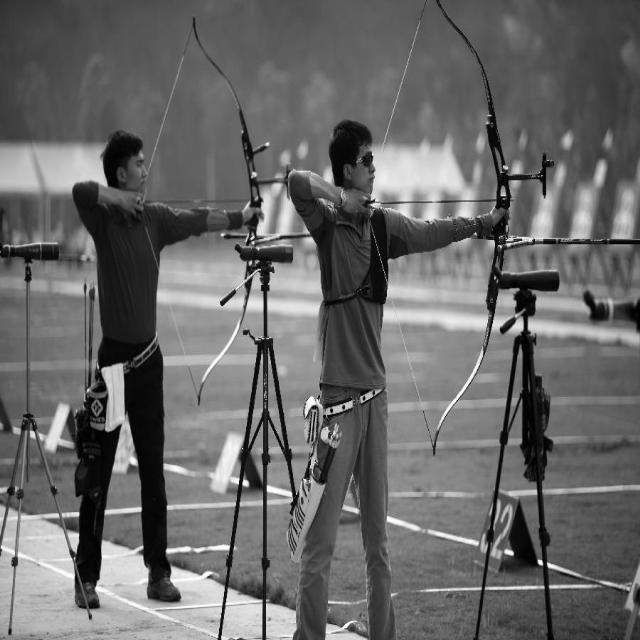stand: (73, 116, 182, 621), (294, 107, 392, 640)
